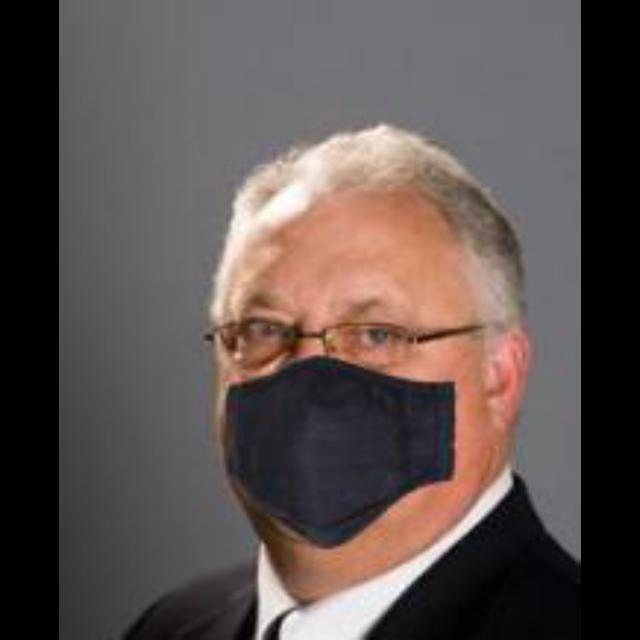suspicion: (208, 73, 544, 595)
